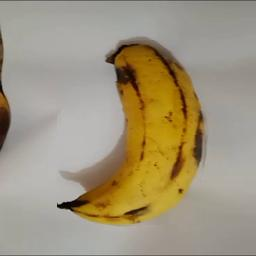Banana Semifresh: (57, 41, 211, 226)
